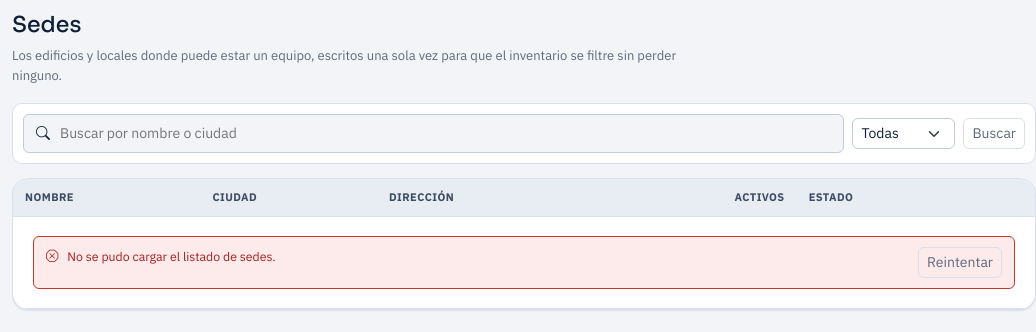
Sedes › si no carga lo dice, sin filas a medias, y deja reintentar
The image size is (1036, 332).
Expected: the message shows "No se pudo cargar el listado de sedes.", [67, 248, 276, 264]
Step 1. Click the button "Reintentar" → (960,262), box [918, 247, 1002, 278]
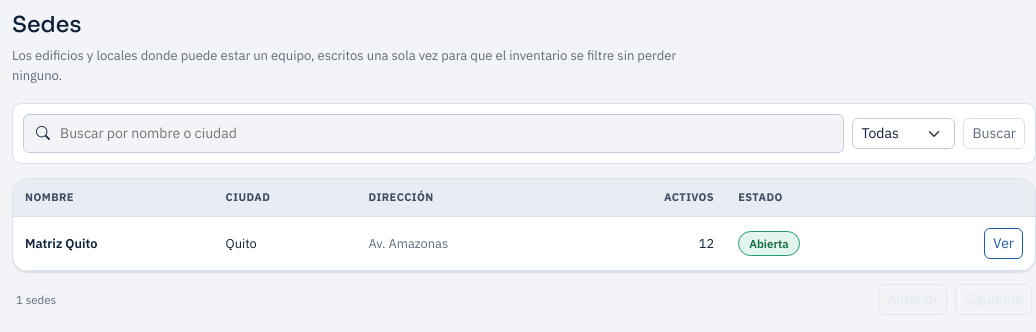
Expected: the text "Matriz Quito" is shown, [13, 216, 214, 270]
Expected: the message "No se pudo cargar el listado de sedes. Reintentar" is gone
